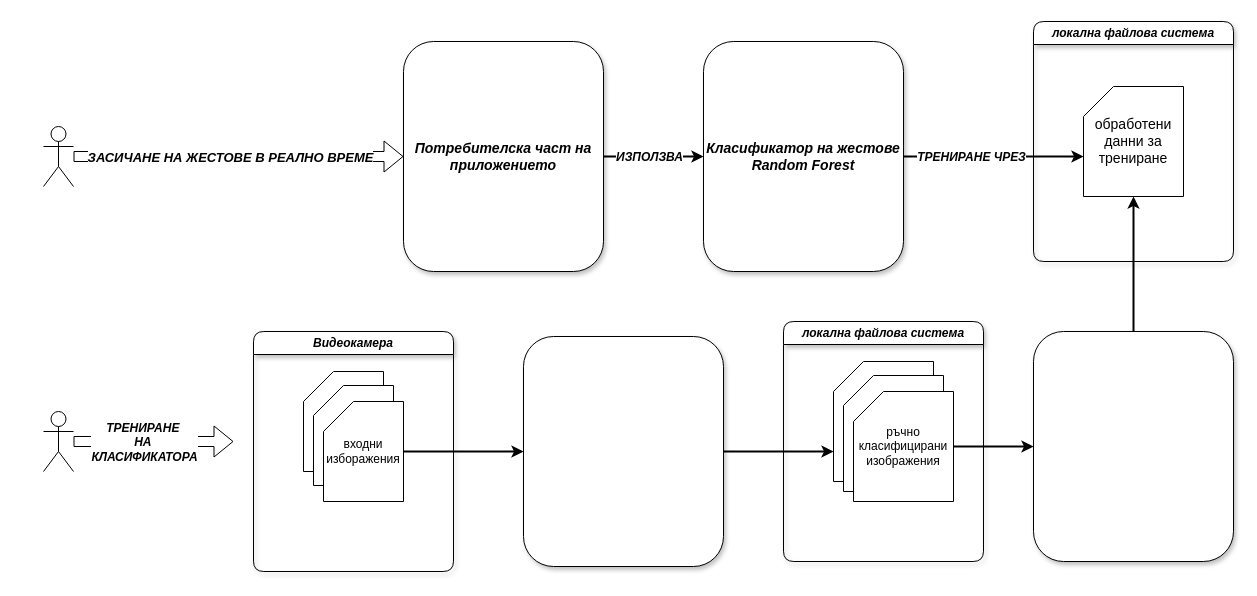
Some shapes in this 1257 by 596 pixel diagram are drawn without their labels. Here are the shapes that lost their labels. From the top down, the centre of each, then its label:
At (x=58, y=156): "Потребител".
At (x=58, y=441): "Инженер".
At (x=624, y=453): "Процес на категоризиране на входните изображения".
At (x=1134, y=447): "Процес на откриване на точки на интерес в ръцете във входните изображения".
